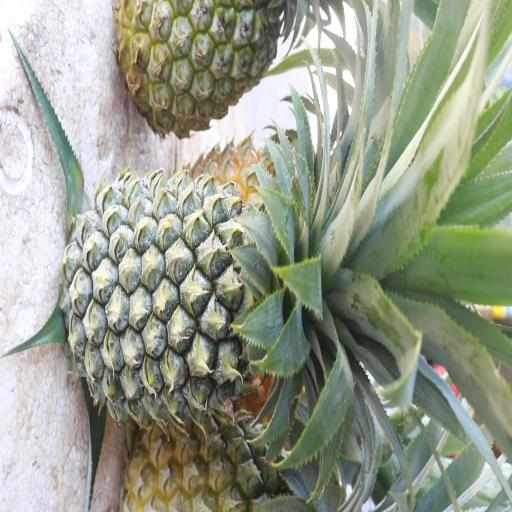------------------------------: (113, 0, 281, 133), (126, 405, 284, 512)
